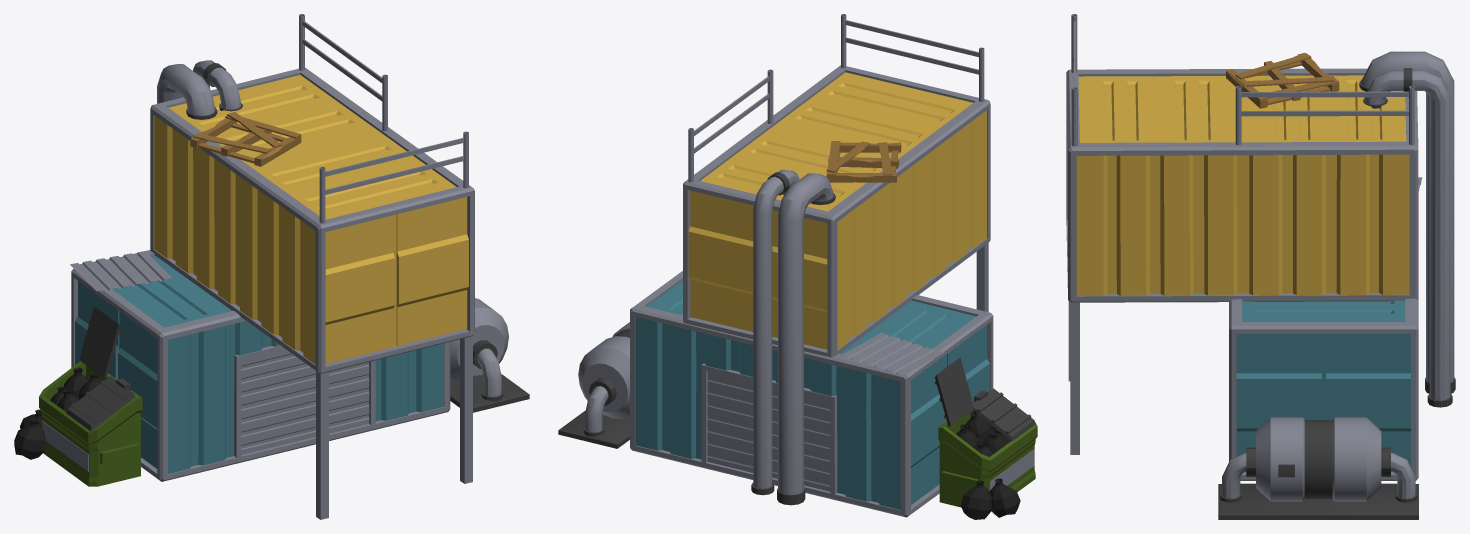
Rendered from Structure-PB5Cd3dL24.glb.
3 renders of one model, left to right at view 1: azimuth 30°, elevation 25°; view 2: azimuth 150°, elevation 25°; view 3: azimuth 270°, elevation 25°, orthographic. The views are drawn at different scales.
Visible parts, largest first — view 1: Structure-PB5Cd3dL24; view 2: Structure-PB5Cd3dL24; view 3: Structure-PB5Cd3dL24.
Boxes of the visible parts, x1=… form: Structure-PB5Cd3dL24: x1=14, y1=14, x2=529, y2=519; Structure-PB5Cd3dL24: x1=558, y1=14, x2=1037, y2=519; Structure-PB5Cd3dL24: x1=1066, y1=14, x2=1455, y2=519.
Bounding box in the file's own units: 3.32 × 2.45 × 2.37.
